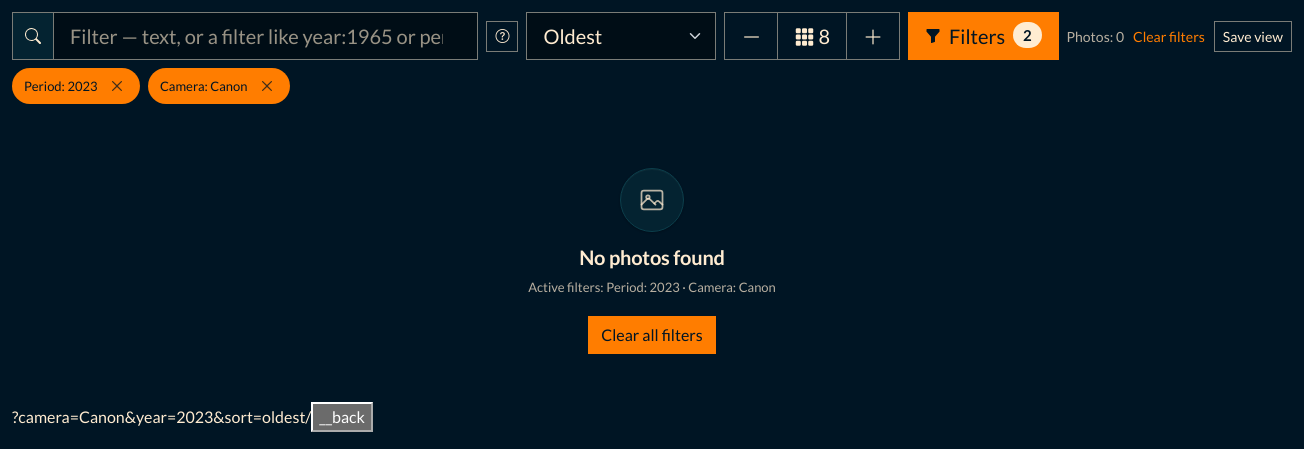
LibraryPage › clears every filter from the empty state, keeping the sort
Check: the text "No photos found" is shown, box [579,244,725,270]
Click the button "Clear all filters": click(652, 335) [588,316,716,354]
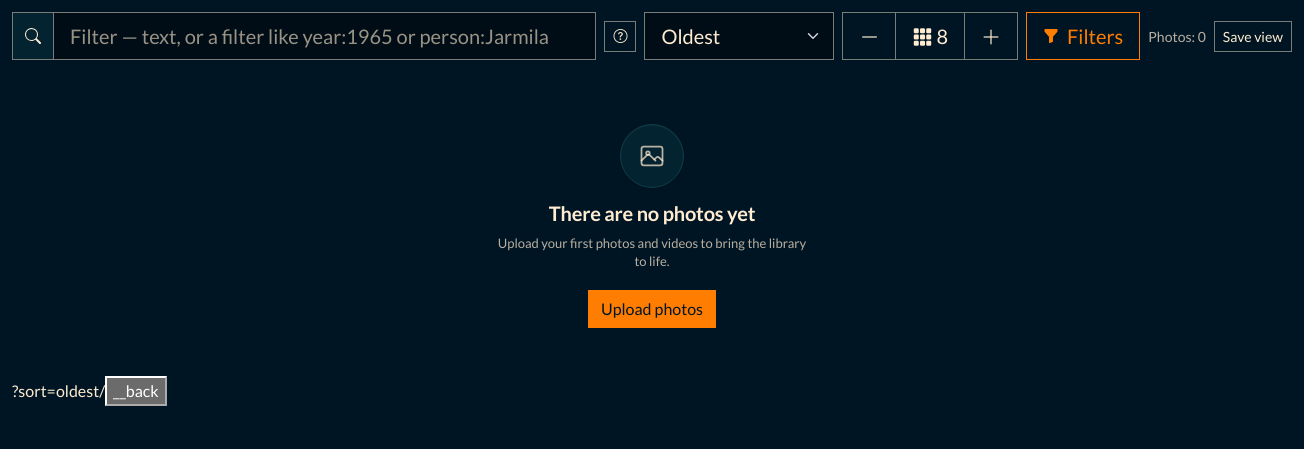
Check: the text with test id "search" shows "sort=oldest", box [12,381,99,400]
Check: the element with test id "search" no longer shows "Camera"
Check: the text with test id "search" no longer shows "year"
